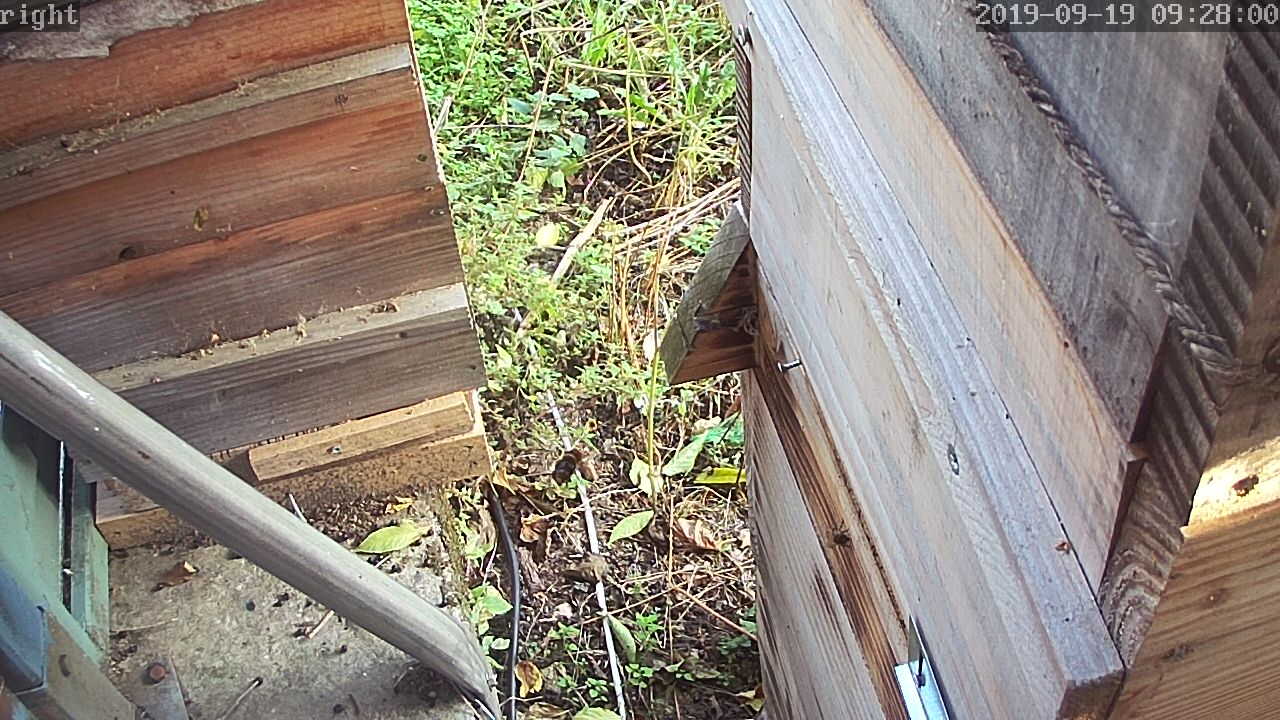bee: (820, 518, 860, 552)
hornet: (543, 442, 579, 487)
